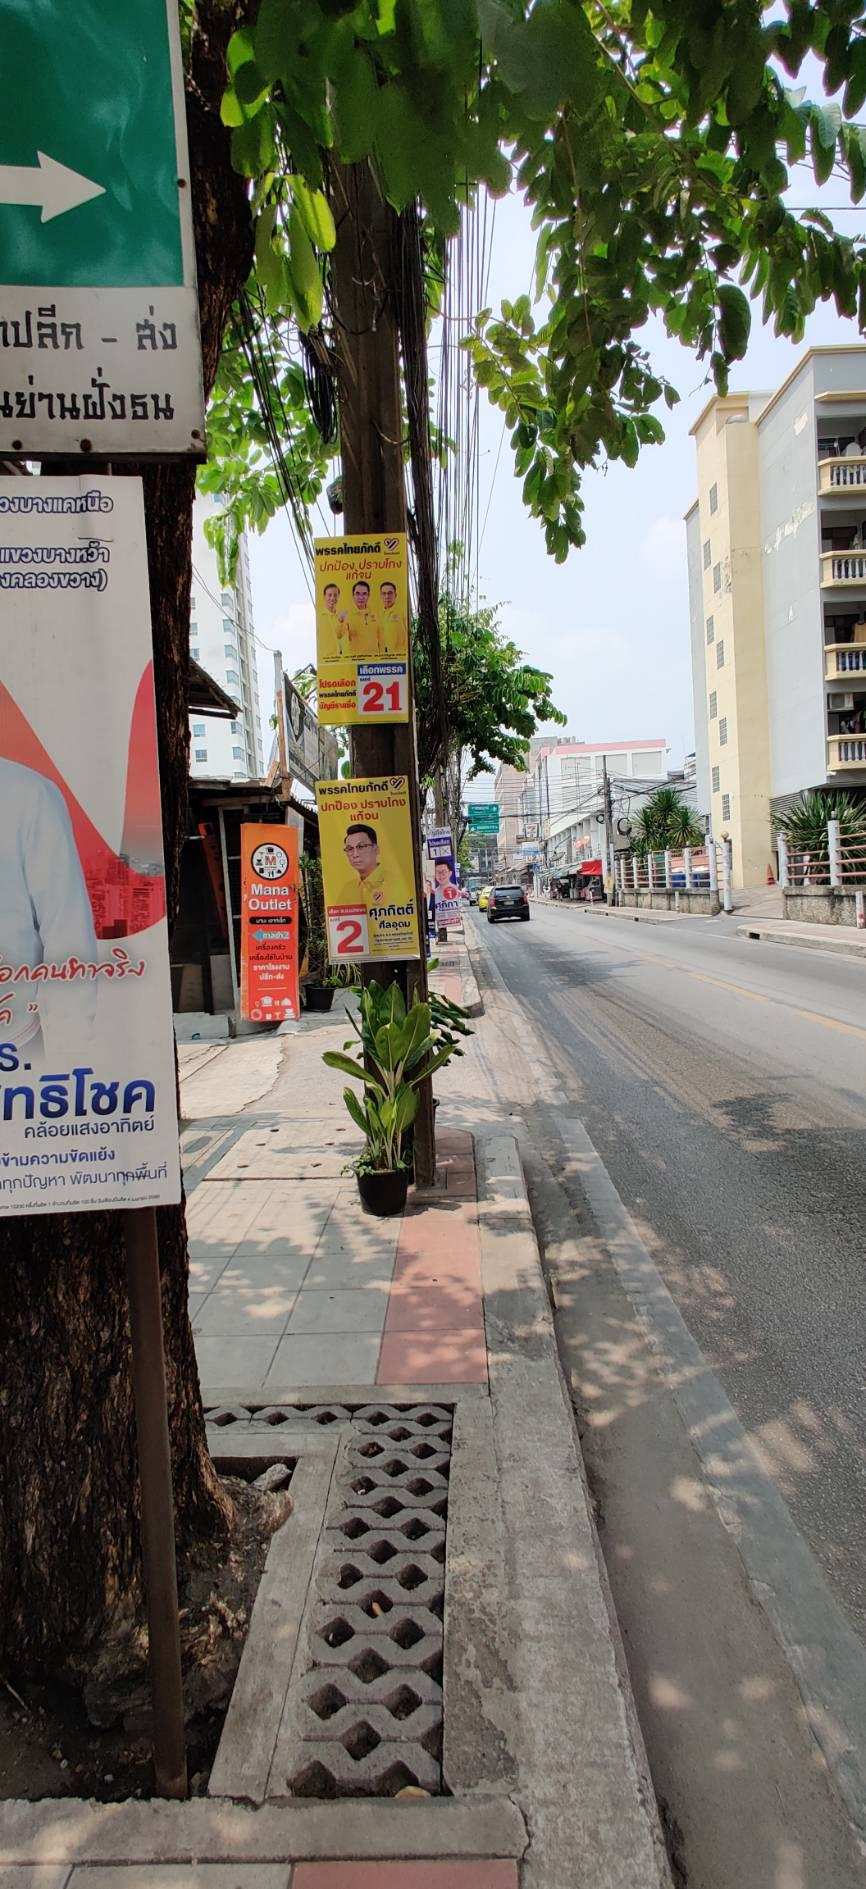Banner: (0, 470, 188, 1212), (297, 532, 428, 718), (304, 775, 430, 958)
